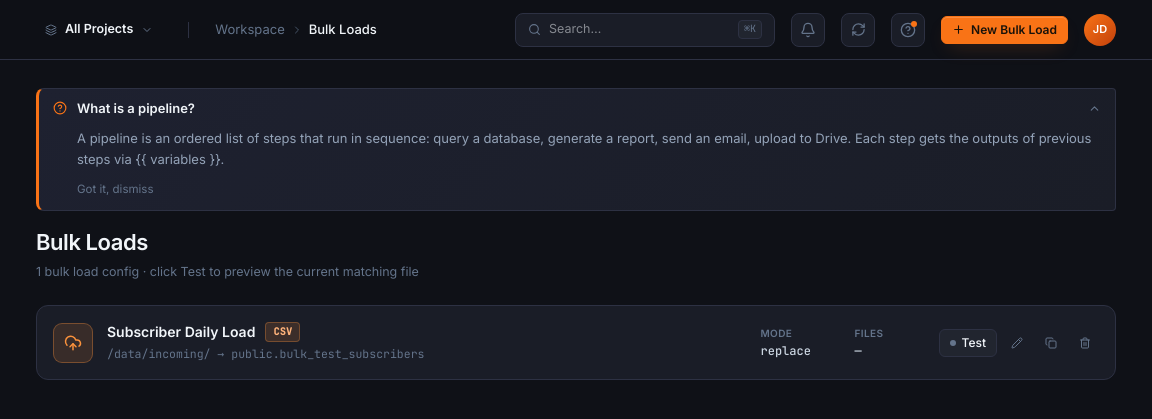
BulkLoads › shows a warnings badge and the first warning when the Test finds issues
This screenshot has width=1152, height=419.
Expected: the text "Subscriber Daily Load" is shown, 107,322 -> 255,342
Click the button "Test": [968, 343] box 938,329 -> 997,357
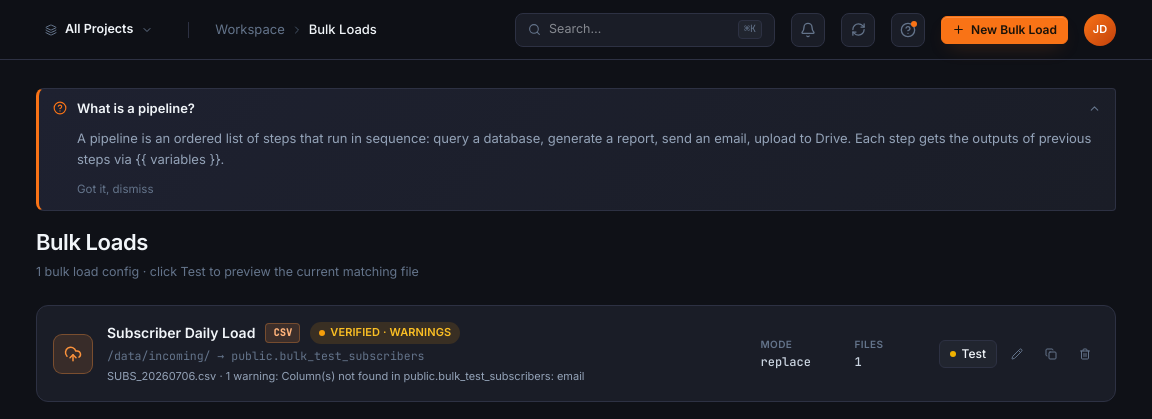
Now the text "Verified · warnings" is shown, box 310,322 -> 460,344
Now the text "Column(s) not found in" is shown, box 226,369 -> 584,383
